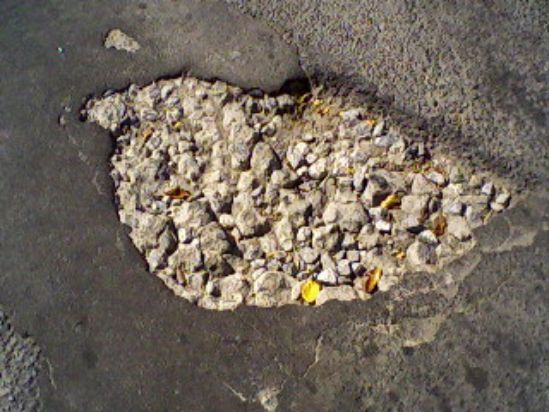pothole: (73, 65, 540, 310)
